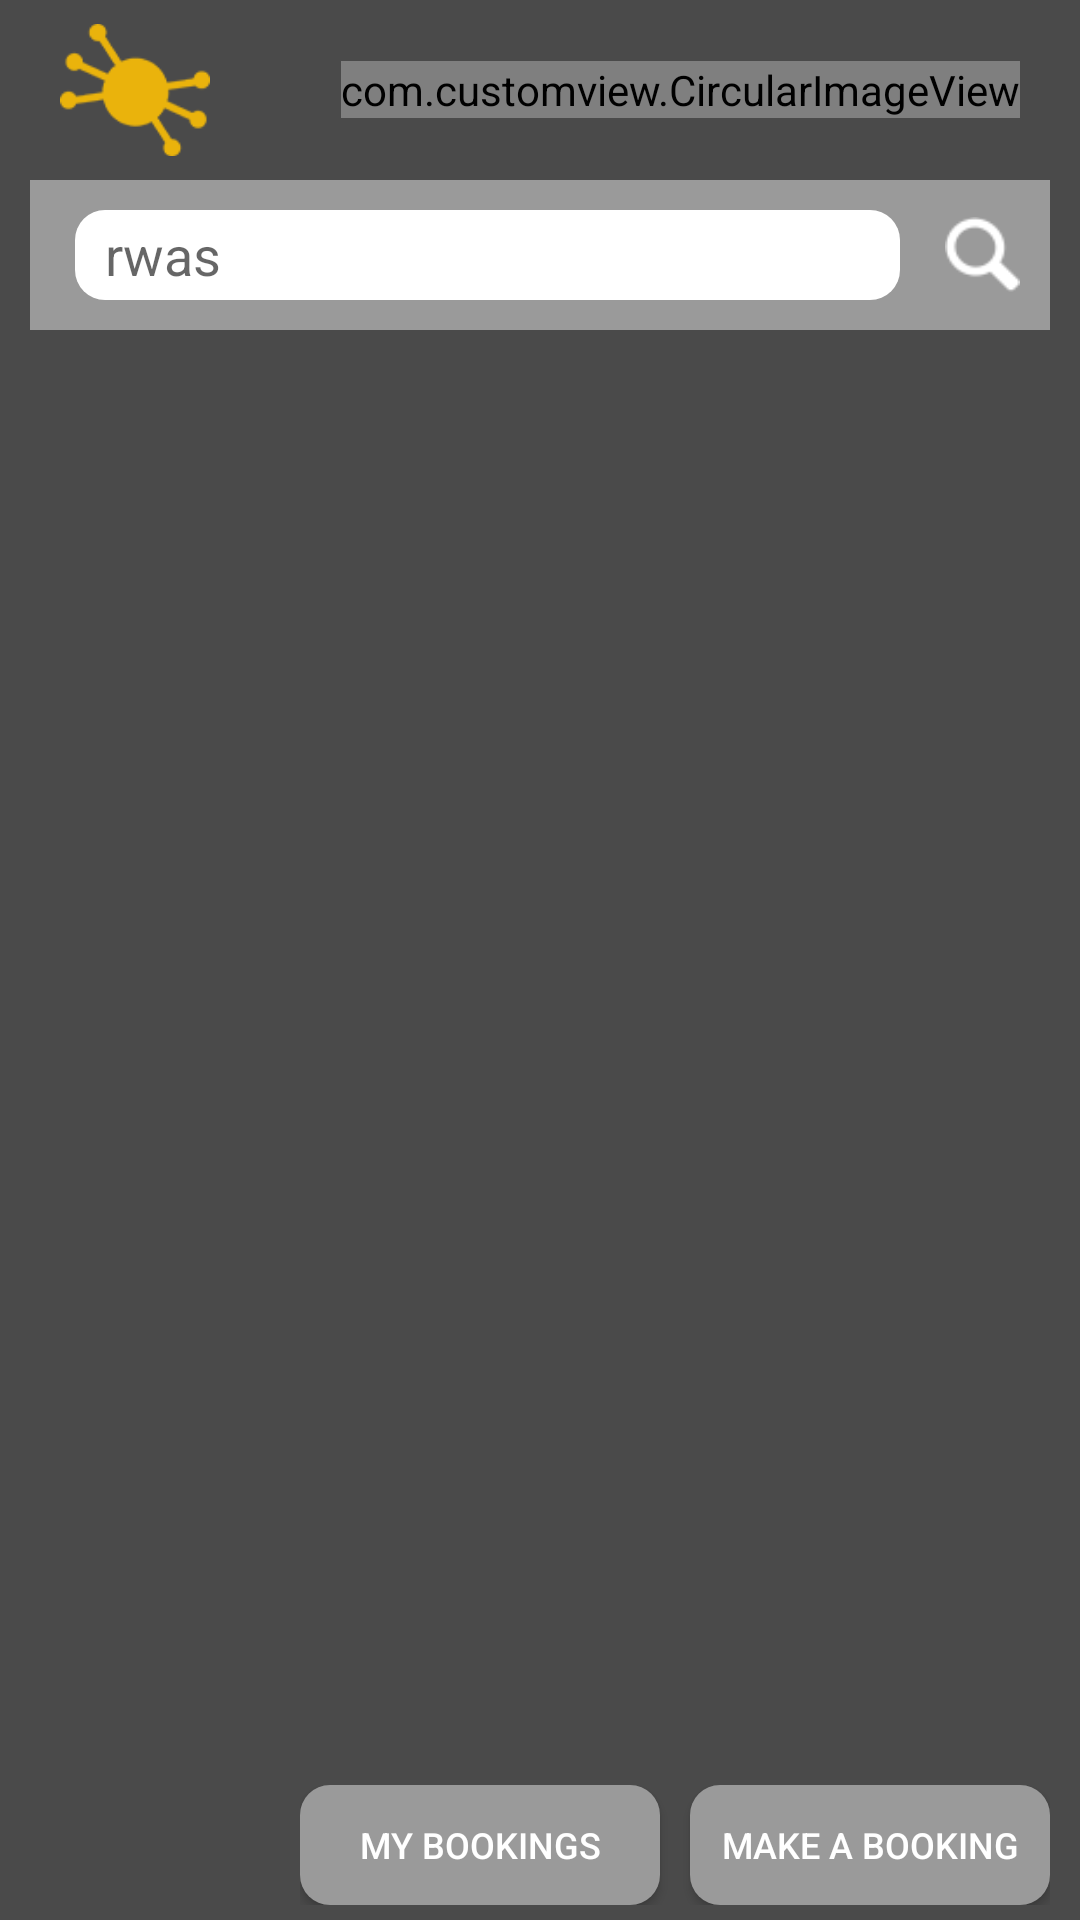

Icons on this 1080px×1920px Android screen, each with its box as (x1, y1, x2, y2):
search: (945, 217, 1020, 291)
